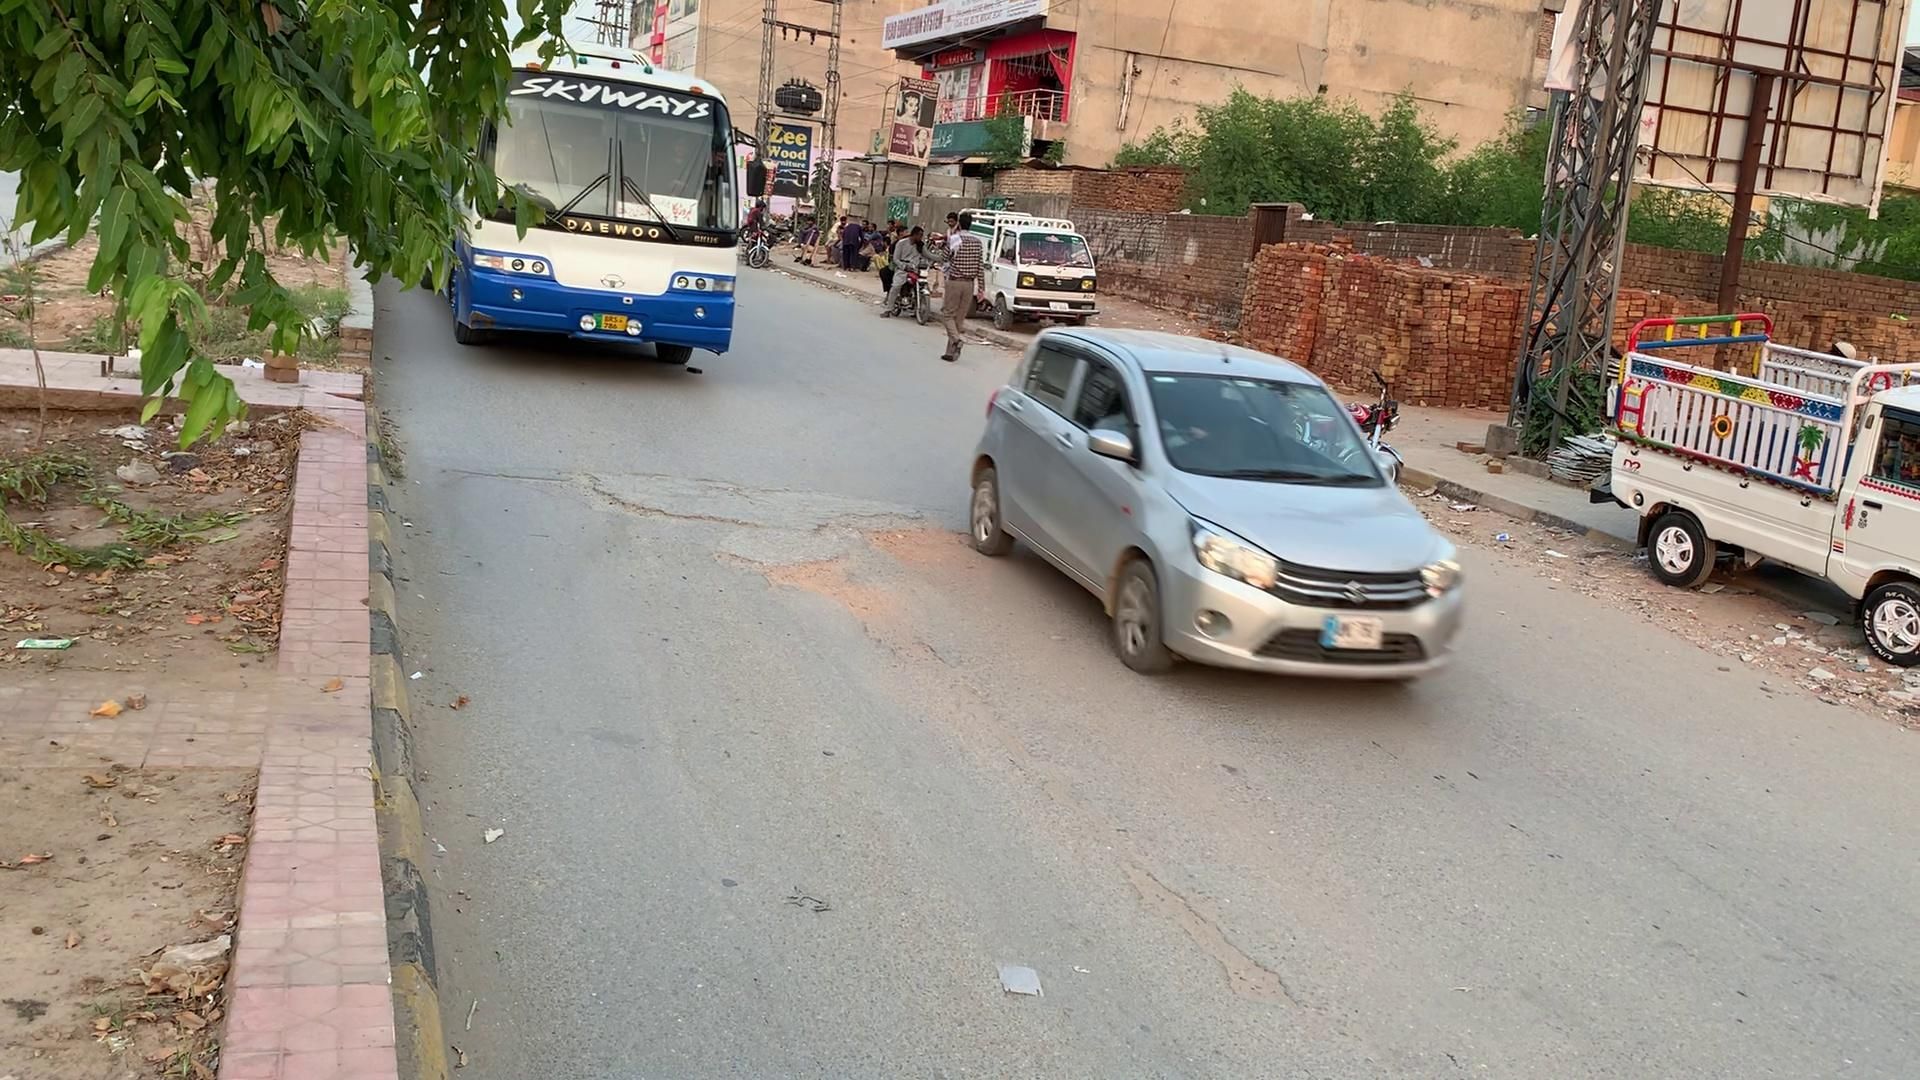windshield: (1134, 356, 1407, 500)
